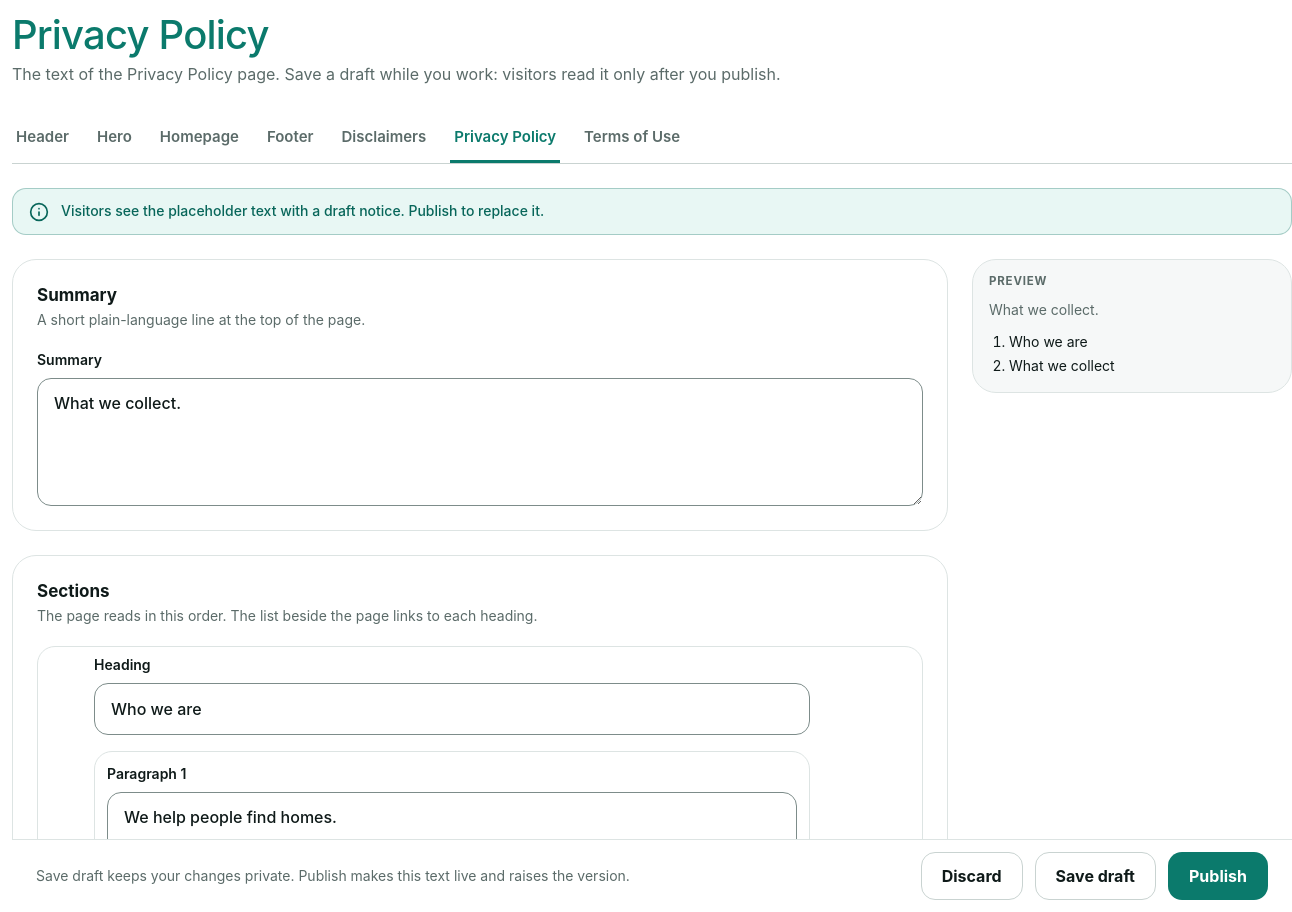
Scenario: UT-legal-form-screen: the Privacy Policy and Terms of Use pages (ADR-151, part C) › puts the boxes back to what was loaded when the admin discards
The width and height of the screenshot is (1292, 912).
Type " Extra" into the text box labelled "Summary" at (480, 442), box [37,378,923,506]
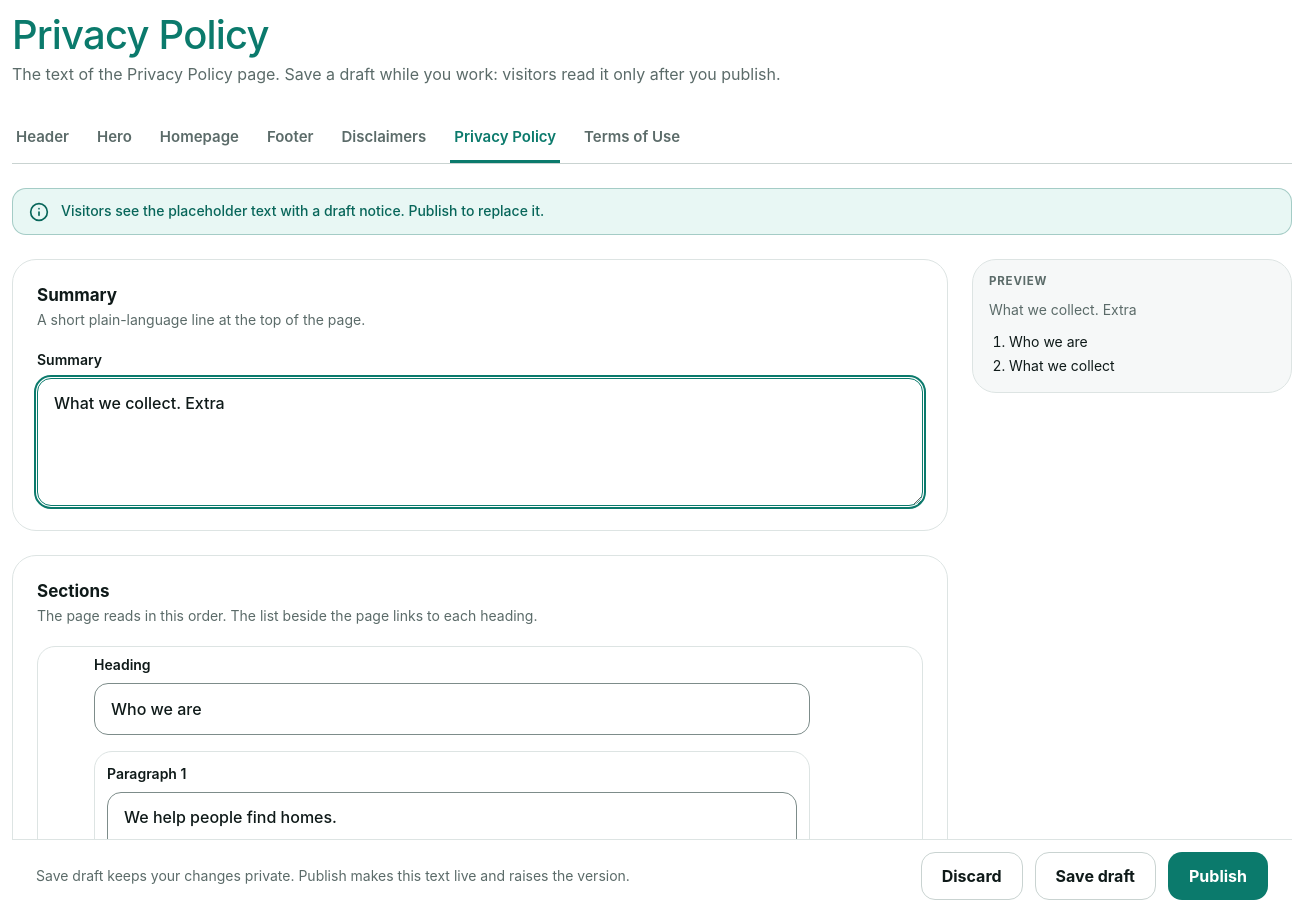
expect the text box labelled "Summary" holds "What we collect. Extra": met, box [37,378,923,506]
Click the button "Discard" at (972, 876), box [921,852,1023,900]
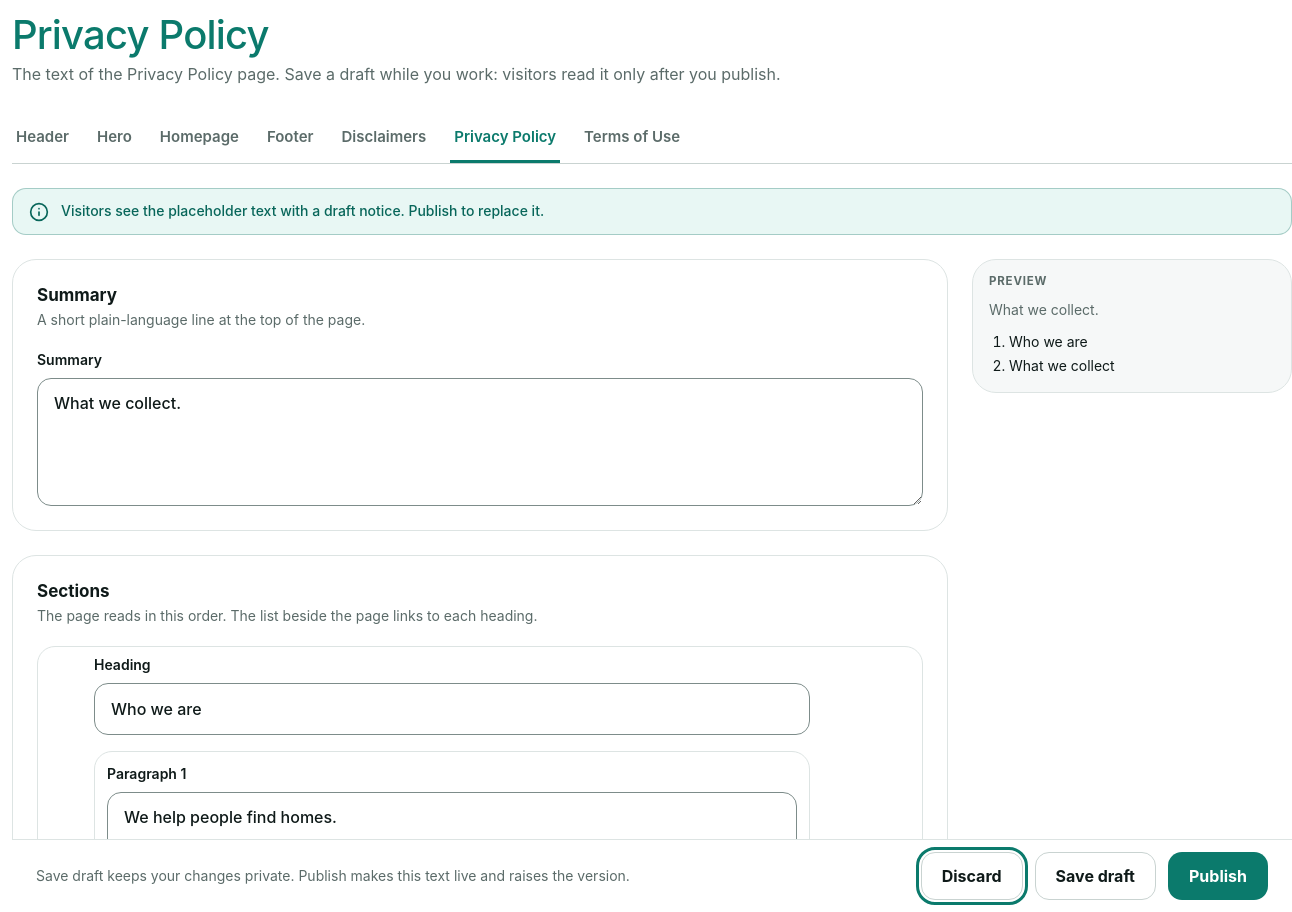
expect the text box labelled "Summary" holds "What we collect.": met, box [37,378,923,506]
